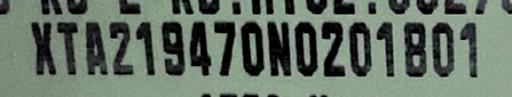letter: (266, 17, 294, 78), (400, 18, 428, 79), (186, 18, 214, 77), (210, 18, 238, 77), (159, 19, 187, 78), (238, 19, 266, 78), (319, 19, 347, 78), (106, 20, 136, 75), (82, 19, 110, 76), (28, 20, 56, 77), (347, 19, 373, 80), (430, 19, 456, 80), (292, 19, 318, 78), (134, 18, 158, 77), (54, 20, 78, 79), (375, 18, 397, 79), (458, 19, 480, 80)
